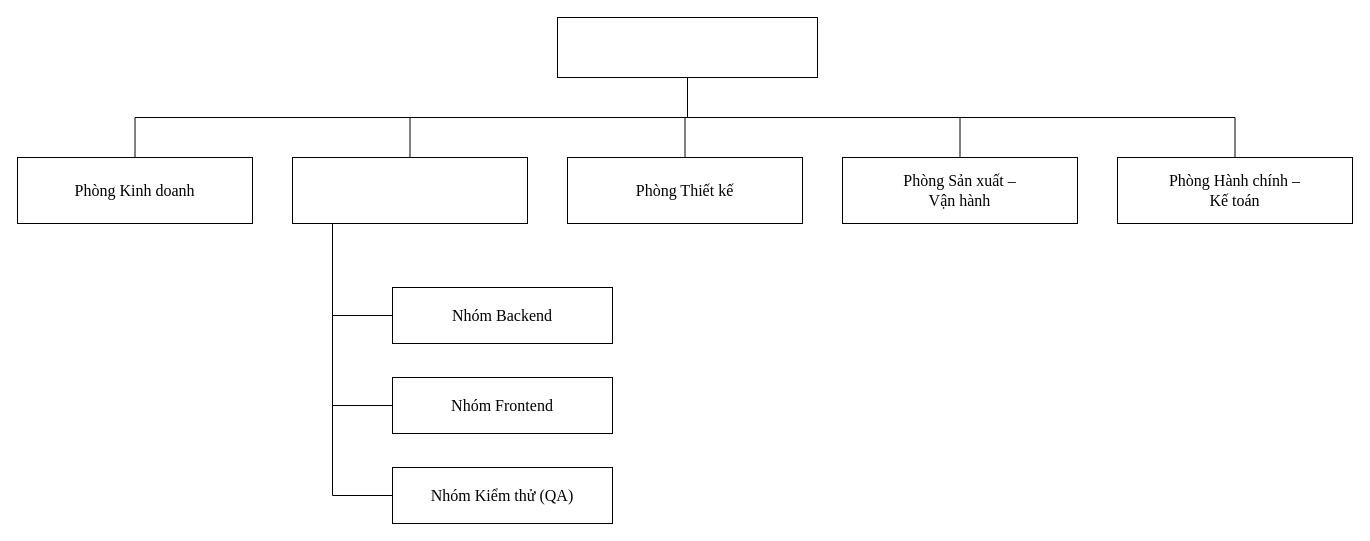
Some shapes in this 1370 by 541 pixel diagram are drawn without their labels. The shapes that lost their labels are listed below. From the top down, each one's centre as x and y in pixels, then its label:
At (x=687, y=47): "Giám đốc".
At (x=410, y=190): "Phòng Kỹ thuật – Phát triển phần mềm".
